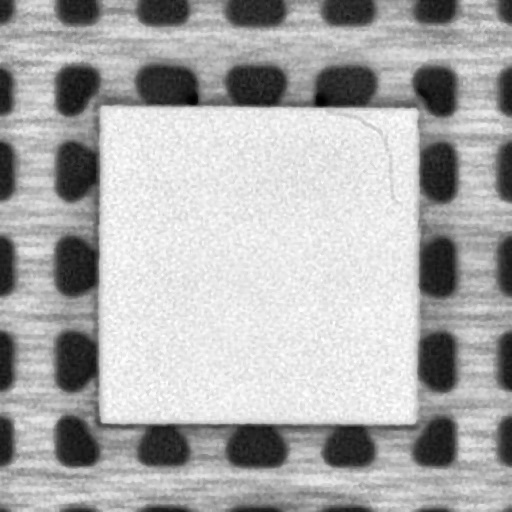DIE_CRACK: (326, 108, 401, 204)
